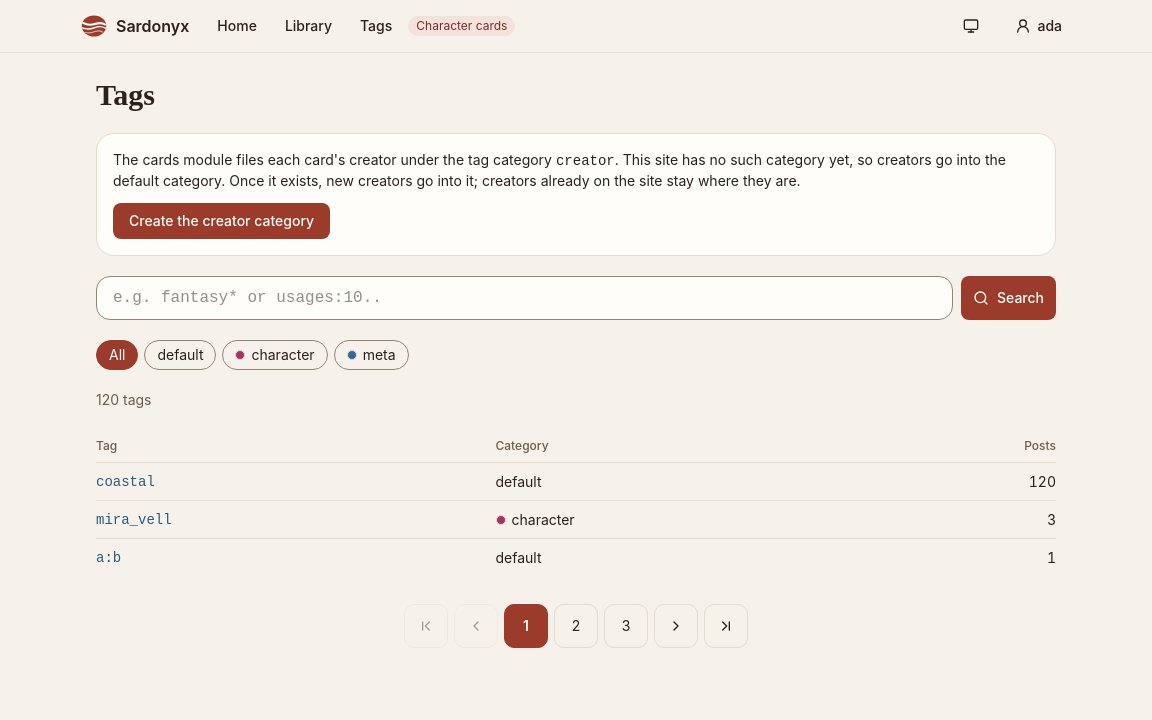
Scenario: the creator category › is offered to who may create it, made on request, then no longer offered
Expected: the element named "The creator category" shows "The cards module files each card's creator", [113,151,552,168]
Step 1. Click the button "Create the creator category" → (222, 221), box [113,203,330,239]
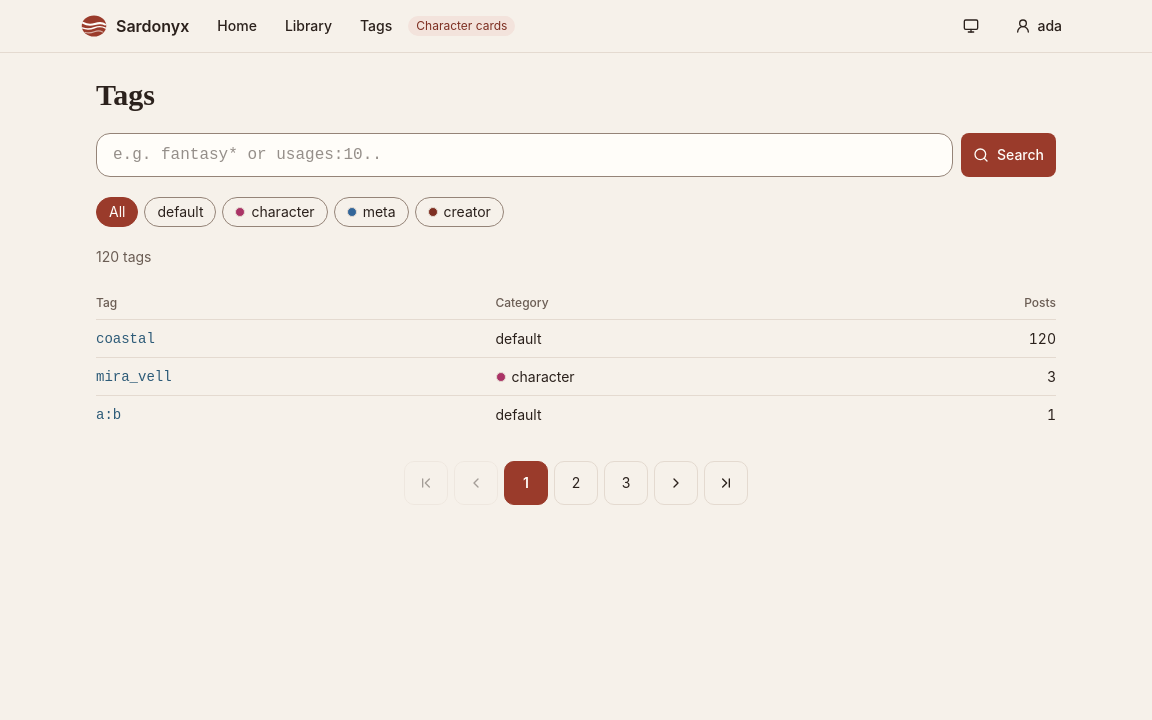
Expected: the link "creator" is shown, [415,197,504,227]
Now the button "the creator category" is gone
